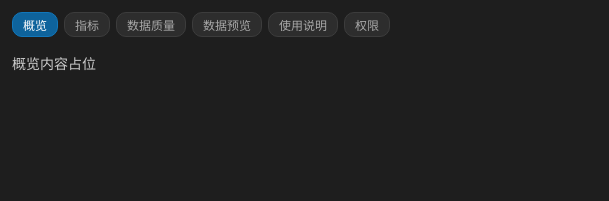
AssetDetailTabs 页签接线 › 数据质量页签渲染规则数与未通过规则数
The image size is (609, 201).
Click the tab "数据质量" at (151, 24), box [116,12,186,37]
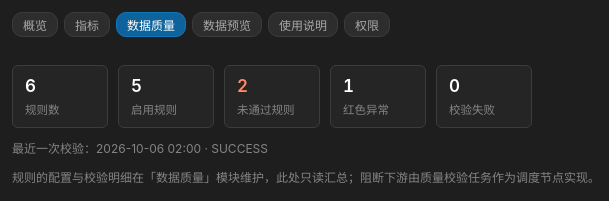
Expected: the text "未通过规则" is shown, [237,102,294,116]
Expected: the text "2" is shown, [237,76,248,96]
